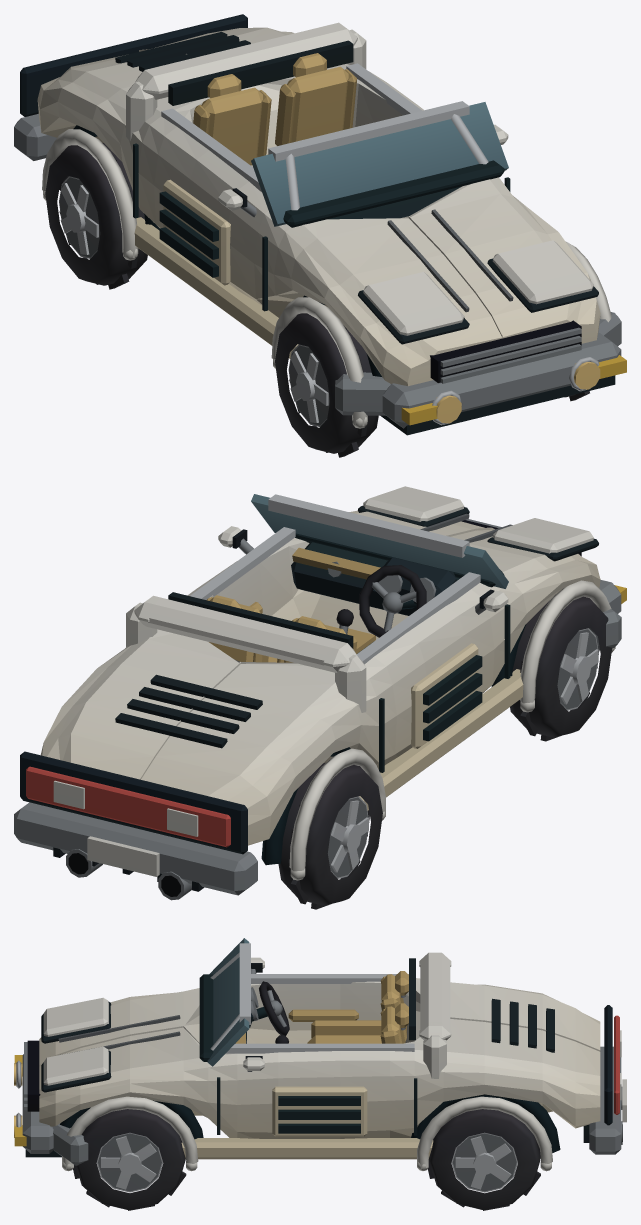
Rendered from white-sports-convertible.glb.
3 views of the same model, one above another, from view 1: azimuth 30°, elevation 25°; view 2: azimuth 150°, elevation 25°; view 3: azimuth 270°, elevation 25° (orthographic). The views are drawn at different scales.
Parts seen in each view (by area): view 1: white_sports_convertible; view 2: white_sports_convertible; view 3: white_sports_convertible.
Part boxes in pixels (<box>): white_sports_convertible: <box>14,14,626,457</box>; white_sports_convertible: <box>14,486,626,909</box>; white_sports_convertible: <box>14,938,626,1210</box>.
Size of the model in its own units: 1.13 by 0.9171 by 2.73.
